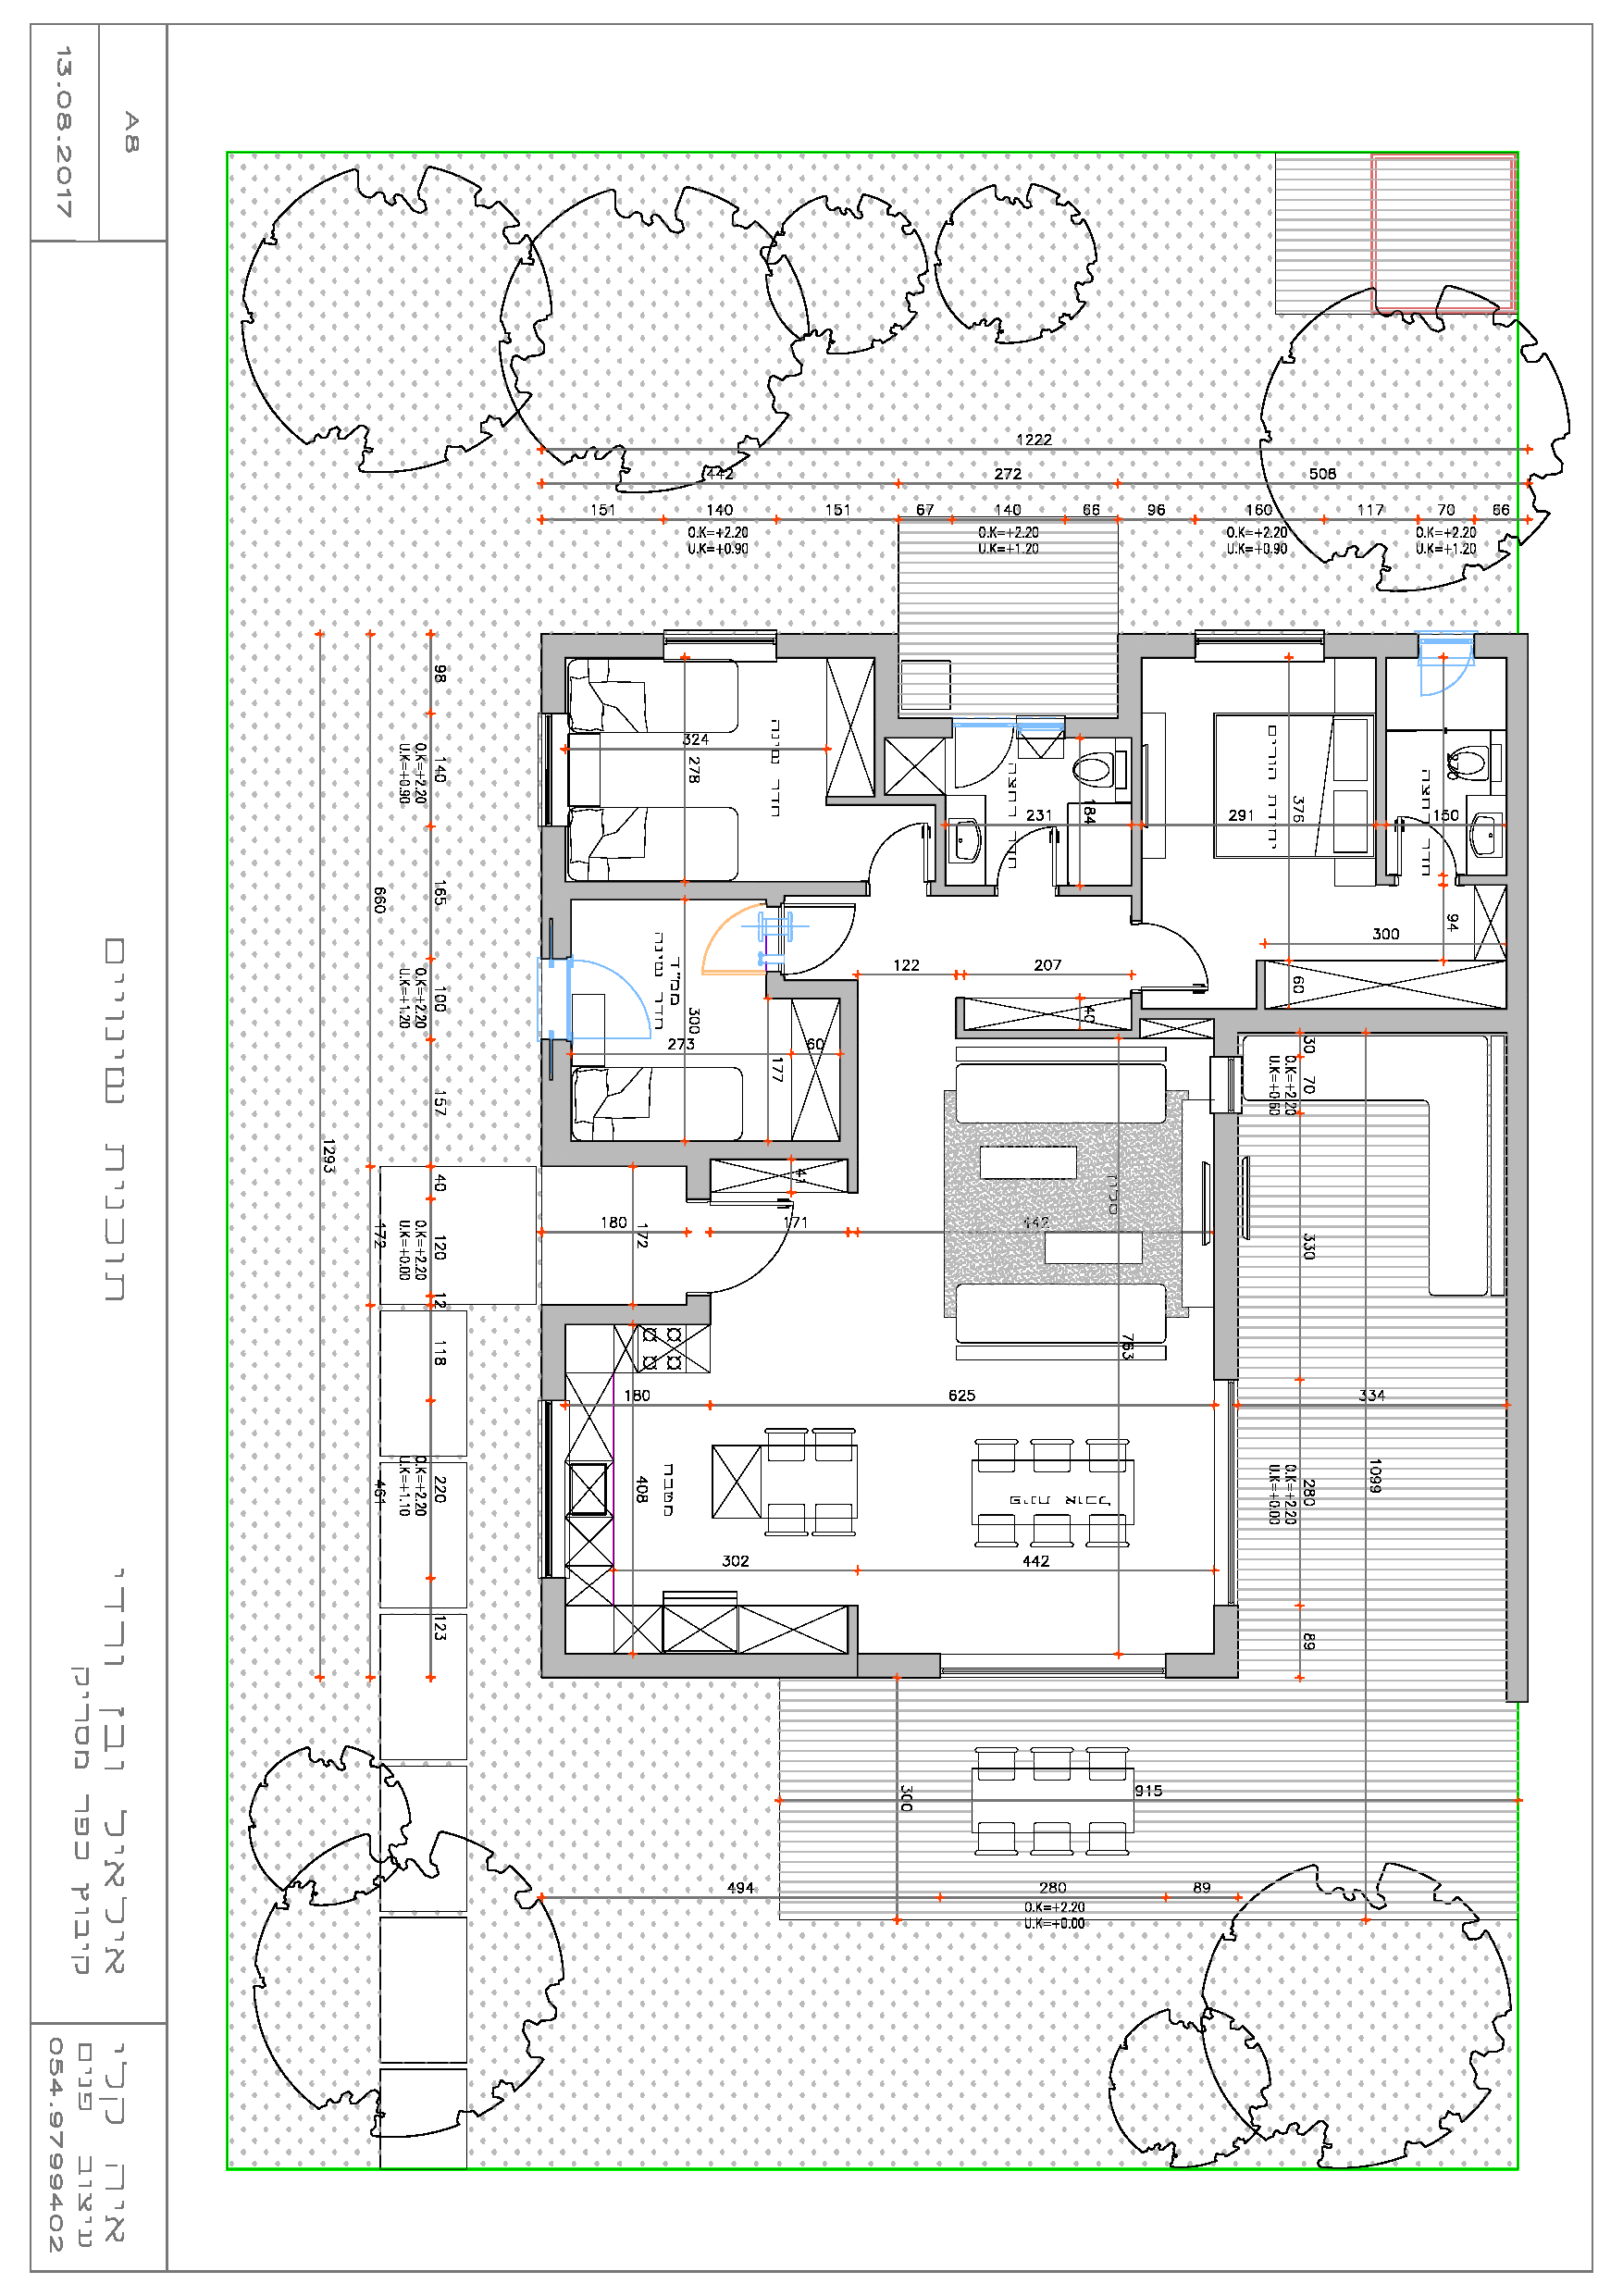door: (724, 1196, 797, 1296), (1391, 812, 1461, 892), (797, 901, 873, 975), (1149, 921, 1217, 1000), (998, 820, 1061, 887), (866, 817, 933, 877), (949, 745, 1006, 794)
wall: (1509, 641, 1528, 1699), (546, 1655, 852, 1676), (1165, 1604, 1240, 1685), (1214, 1119, 1237, 1372), (1223, 1014, 1525, 1029), (546, 1144, 855, 1158), (841, 986, 855, 1158), (541, 1307, 703, 1321), (780, 638, 894, 657), (875, 636, 896, 736), (1119, 634, 1140, 734), (543, 636, 662, 653), (560, 885, 855, 892), (541, 632, 566, 713), (543, 1309, 564, 1397), (543, 1583, 564, 1671), (553, 1045, 569, 1159), (1168, 1655, 1237, 1678), (685, 1140, 711, 1198), (545, 831, 562, 913), (1215, 1606, 1237, 1674), (876, 634, 884, 803), (769, 982, 852, 996), (876, 720, 949, 734), (827, 796, 945, 803), (957, 1031, 1114, 1036), (1133, 738, 1142, 815), (1131, 831, 1140, 908), (1133, 834, 1140, 919), (936, 827, 945, 889), (933, 887, 992, 894)
window: (1189, 624, 1328, 671), (659, 624, 782, 669)
